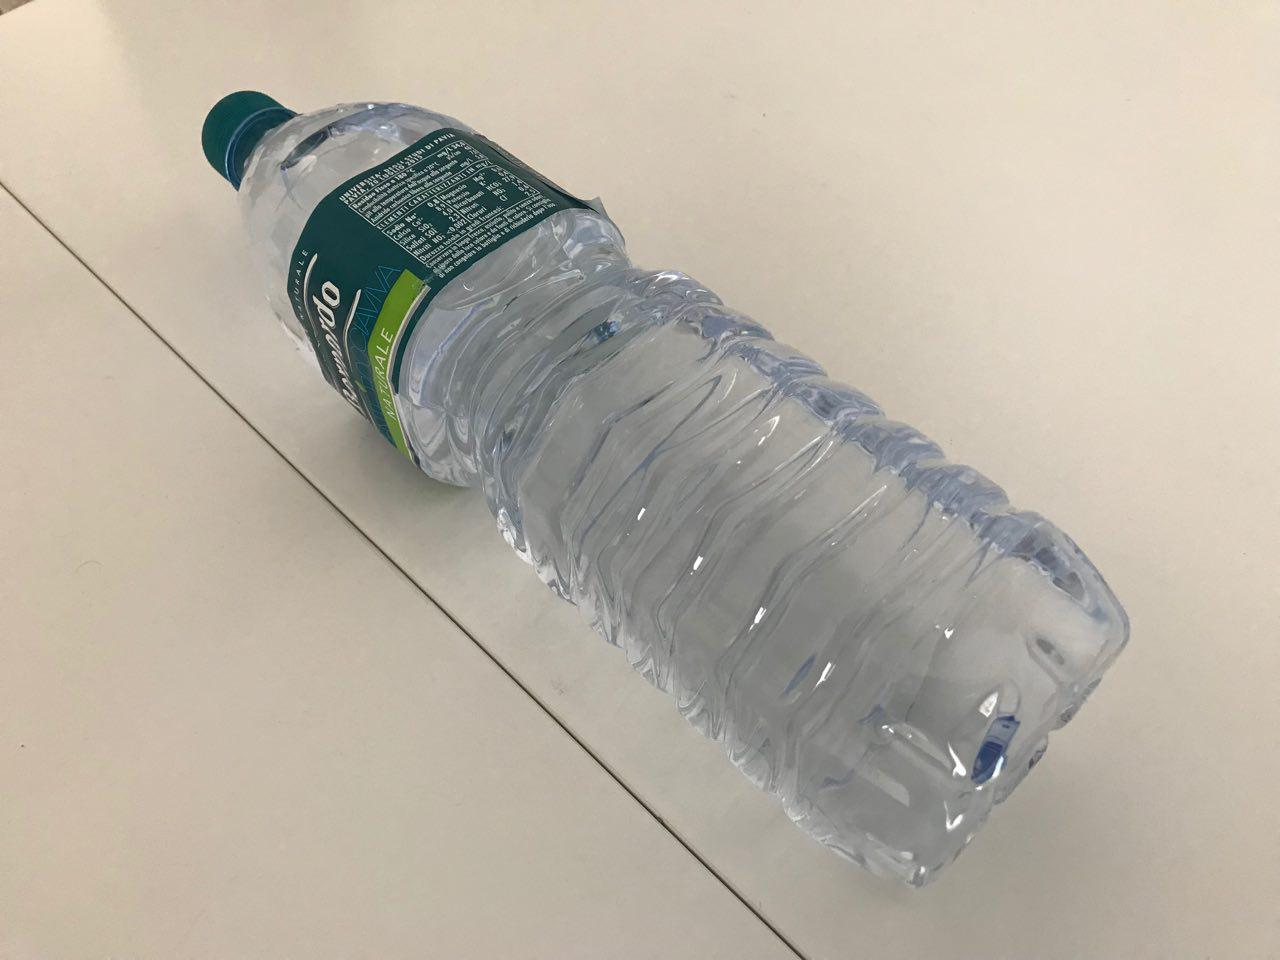san_bernardo: (198, 86, 1132, 894)
